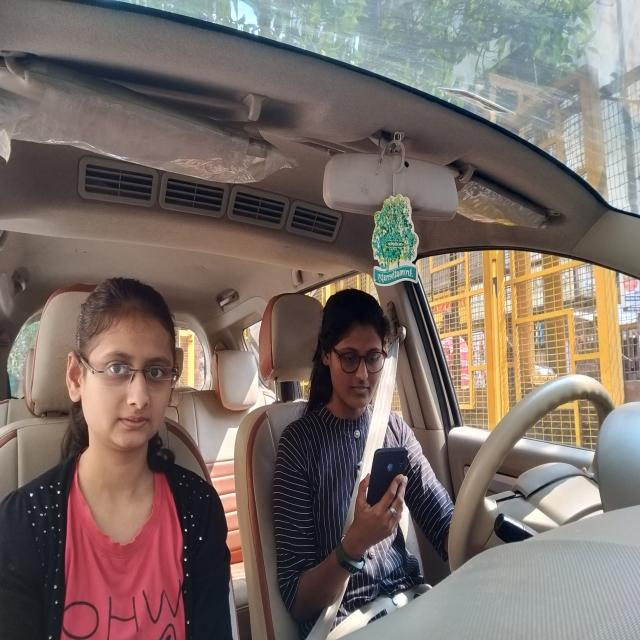mobile: (368, 445, 415, 519)
person: (75, 292, 177, 459), (324, 297, 391, 404)
